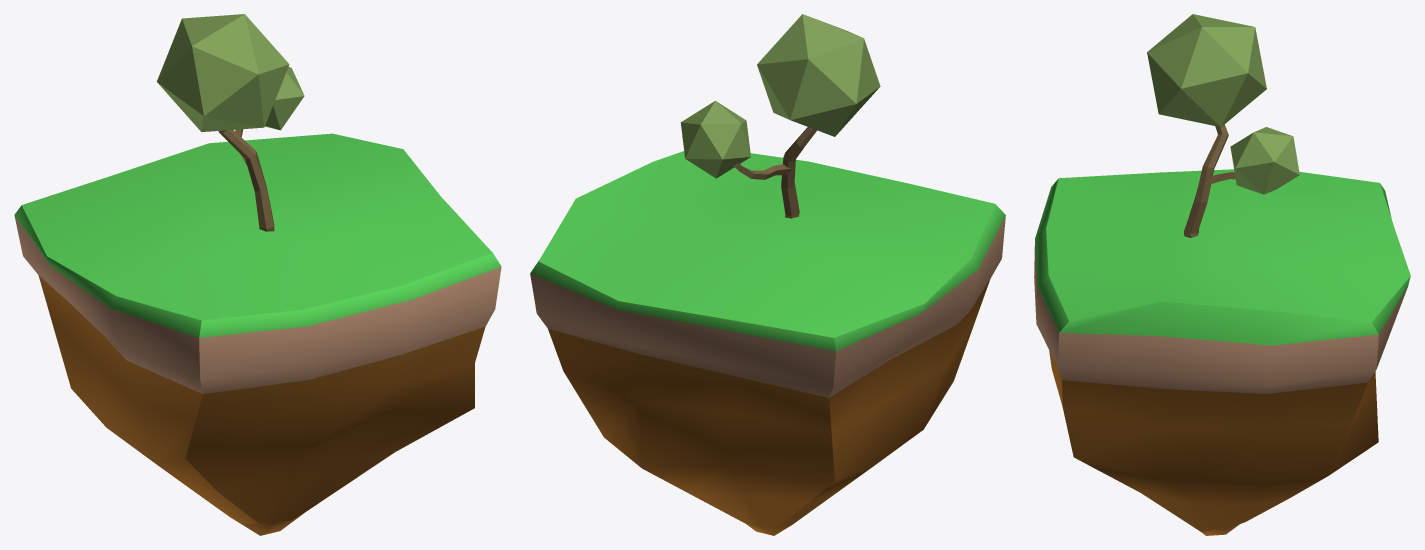
The model's file is Soil.fbx.
The picture shows the model from 3 angles, left to right: view 1: azimuth 30°, elevation 25°; view 2: azimuth 150°, elevation 25°; view 3: azimuth 270°, elevation 25°; orthographic projection. The views are drawn at different scales.
Visible parts, largest first — view 1: Ground1, Lowpoly_tree_sample:Default; view 2: Ground1, Lowpoly_tree_sample:Default; view 3: Ground1, Lowpoly_tree_sample:Default.
Boxes of the visible parts, box(x1,y1,x2,y2) form: Ground1: box(14, 133, 501, 535); Lowpoly_tree_sample:Default: box(157, 14, 304, 231); Ground1: box(530, 151, 1005, 535); Lowpoly_tree_sample:Default: box(680, 14, 880, 218); Ground1: box(1034, 169, 1410, 535); Lowpoly_tree_sample:Default: box(1147, 14, 1299, 237).
Size of the model in its own units: 12.99 by 17.56 by 12.19.
